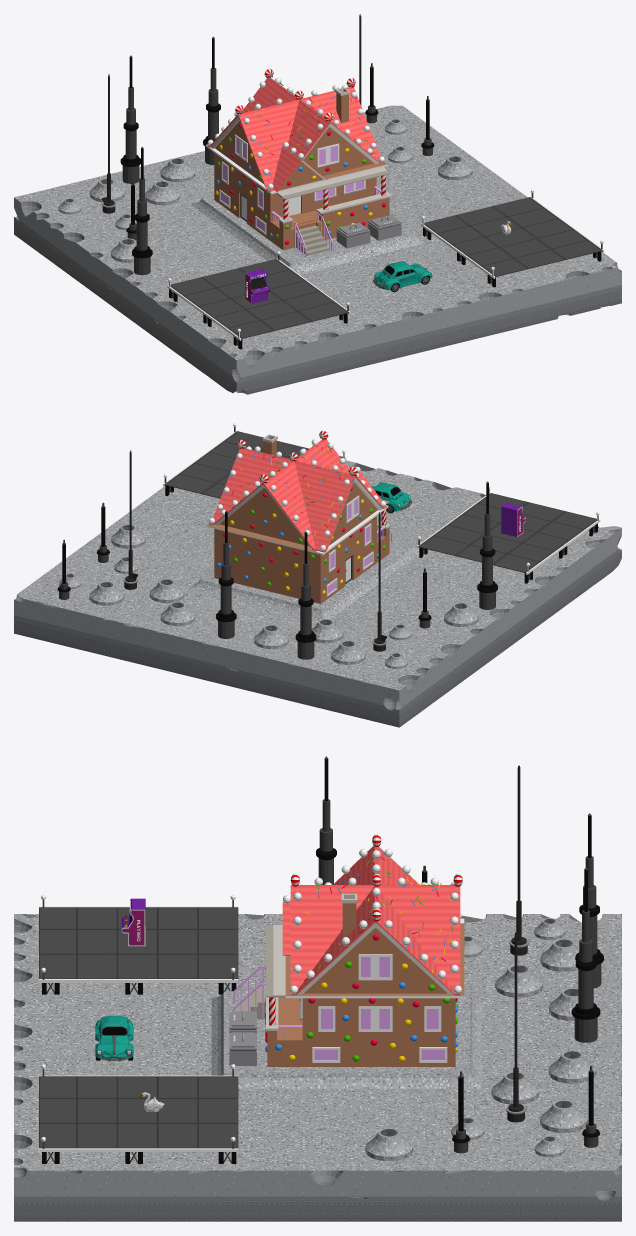
3 views of the same model, one above another, from view 1: azimuth 30°, elevation 25°; view 2: azimuth 150°, elevation 25°; view 3: azimuth 270°, elevation 25° (orthographic). The views are drawn at different scales.
Visible parts, largest first — view 1: Cube.027, Cube.1203, Cube.026, Cube.025, Cube.028, Cylinder.020, Cylinder.021, VEHICLES_VOLKSWAGEN, Cylinder.017, OBJRANDOM_ARCADE, Cube.029, Cube.030 (+4 smaller); view 2: Cube.027, Cube.1203, Cube.025, Cube.028, Cube.026, Cylinder.020, Cylinder.021, Cylinder.017, VEHICLES_VOLKSWAGEN, OBJRANDOM_ARCADE, Cylinder.031, Cylinder.028 (+8 smaller); view 3: Cube.027, Cube.1203, Cube.026, Cube.025, Cube.028, Cylinder.017, VEHICLES_VOLKSWAGEN, Cylinder.020, Cylinder.021, Cylinder.033, Cylinder.031, Cylinder.029 (+10 smaller).
Boxes of the visible parts, x1=… form: Cube.027: x1=14, y1=105, x2=621, y2=394; Cube.1203: x1=205, y1=69, x2=392, y2=256; Cube.026: x1=421, y1=189, x2=604, y2=287; Cube.025: x1=167, y1=251, x2=350, y2=349; Cube.028: x1=191, y1=195, x2=424, y2=274; Cylinder.020: x1=120, y1=55, x2=140, y2=183; Cylinder.021: x1=132, y1=146, x2=152, y2=275; VEHICLES_VOLKSWAGEN: x1=373, y1=261, x2=432, y2=292; Cylinder.017: x1=203, y1=36, x2=220, y2=164; OBJRANDOM_ARCADE: x1=245, y1=268, x2=269, y2=303; Cube.029: x1=336, y1=222, x2=370, y2=248; Cube.030: x1=368, y1=215, x2=401, y2=240; Cube.027: x1=14, y1=460, x2=621, y2=727; Cube.1203: x1=206, y1=430, x2=392, y2=603; Cube.025: x1=417, y1=485, x2=600, y2=583; Cube.028: x1=190, y1=538, x2=419, y2=620; Cube.026: x1=163, y1=423, x2=346, y2=498; Cylinder.020: x1=295, y1=531, x2=316, y2=659; Cylinder.021: x1=477, y1=481, x2=497, y2=609; Cylinder.017: x1=216, y1=510, x2=236, y2=638; VEHICLES_VOLKSWAGEN: x1=371, y1=482, x2=411, y2=513; OBJRANDOM_ARCADE: x1=501, y1=502, x2=525, y2=537; Cylinder.031: x1=89, y1=581, x2=124, y2=605; Cylinder.028: x1=331, y1=640, x2=365, y2=664; Cube.027: x1=14, y1=914, x2=621, y2=1221; Cube.1203: x1=233, y1=834, x2=464, y2=1066; Cube.026: x1=39, y1=1064, x2=238, y2=1163; Cube.025: x1=39, y1=895, x2=238, y2=994; Cube.028: x1=211, y1=991, x2=481, y2=1088; Cylinder.017: x1=571, y1=867, x2=600, y2=1042; VEHICLES_VOLKSWAGEN: x1=95, y1=1015, x2=133, y2=1061; Cylinder.020: x1=575, y1=813, x2=603, y2=988; Cylinder.021: x1=316, y1=756, x2=336, y2=884; Cylinder.033: x1=365, y1=1128, x2=413, y2=1160; Cylinder.031: x1=540, y1=1100, x2=587, y2=1132; Cylinder.029: x1=548, y1=1050, x2=596, y2=1083.
Size of the model in its own units: 4000 by 1803 by 4000.
46 materials, 5 textured.
